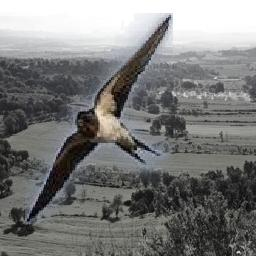Swallow: (25, 14, 173, 225)
